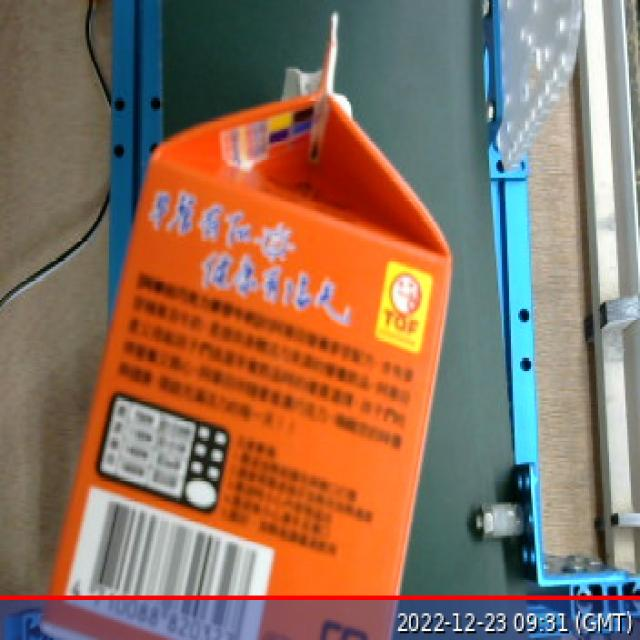non_white_jug: (3, 2, 482, 634)
